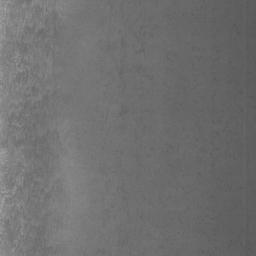Silk spot: (0, 0, 69, 256), (94, 184, 129, 227), (118, 66, 153, 90), (228, 224, 251, 256), (135, 26, 153, 56), (83, 248, 105, 256), (119, 104, 129, 120)
